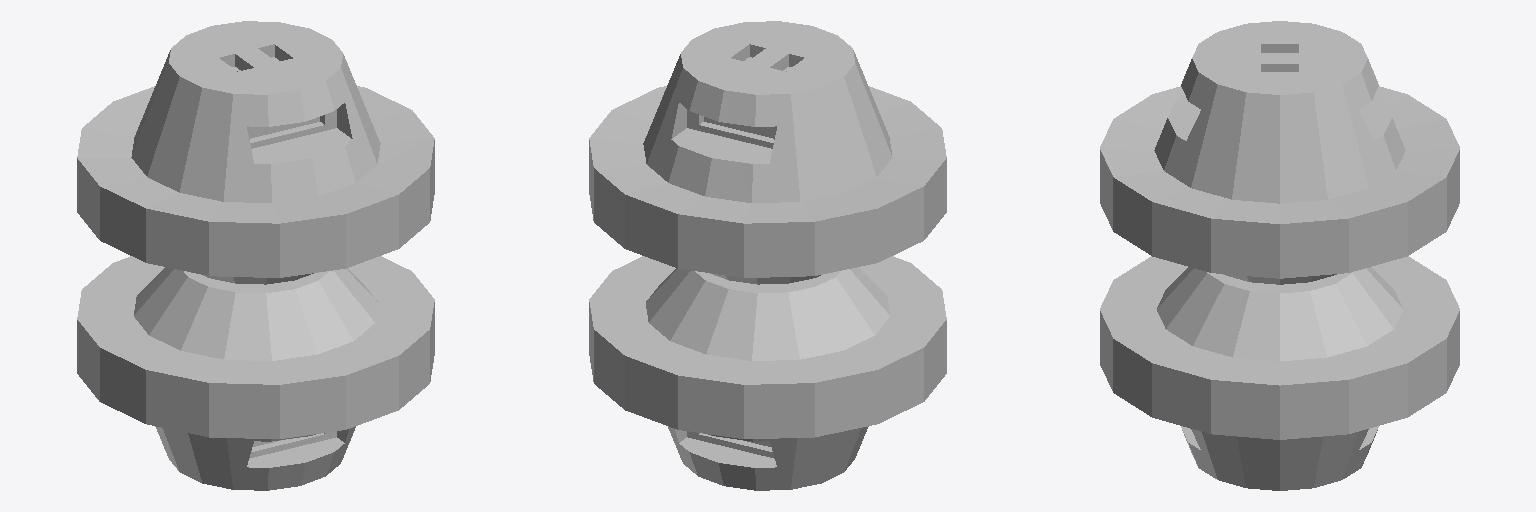
The model's file is Core_III_Main.obj.
The picture shows the model from 3 angles: view 1: azimuth 30°, elevation 25°; view 2: azimuth 150°, elevation 25°; view 3: azimuth 270°, elevation 25°; orthographic projection.
Parts seen in each view (by area): view 1: Core_III_Core_III_Mesh; view 2: Core_III_Core_III_Mesh; view 3: Core_III_Core_III_Mesh.
Part boxes in pixels (x1,y1,x2,y2): Core_III_Core_III_Mesh: (77, 21, 434, 490); Core_III_Core_III_Mesh: (589, 21, 946, 490); Core_III_Core_III_Mesh: (1100, 21, 1459, 490).
Bounding box in the file's own units: 0.4983 × 0.6035 × 0.4983.